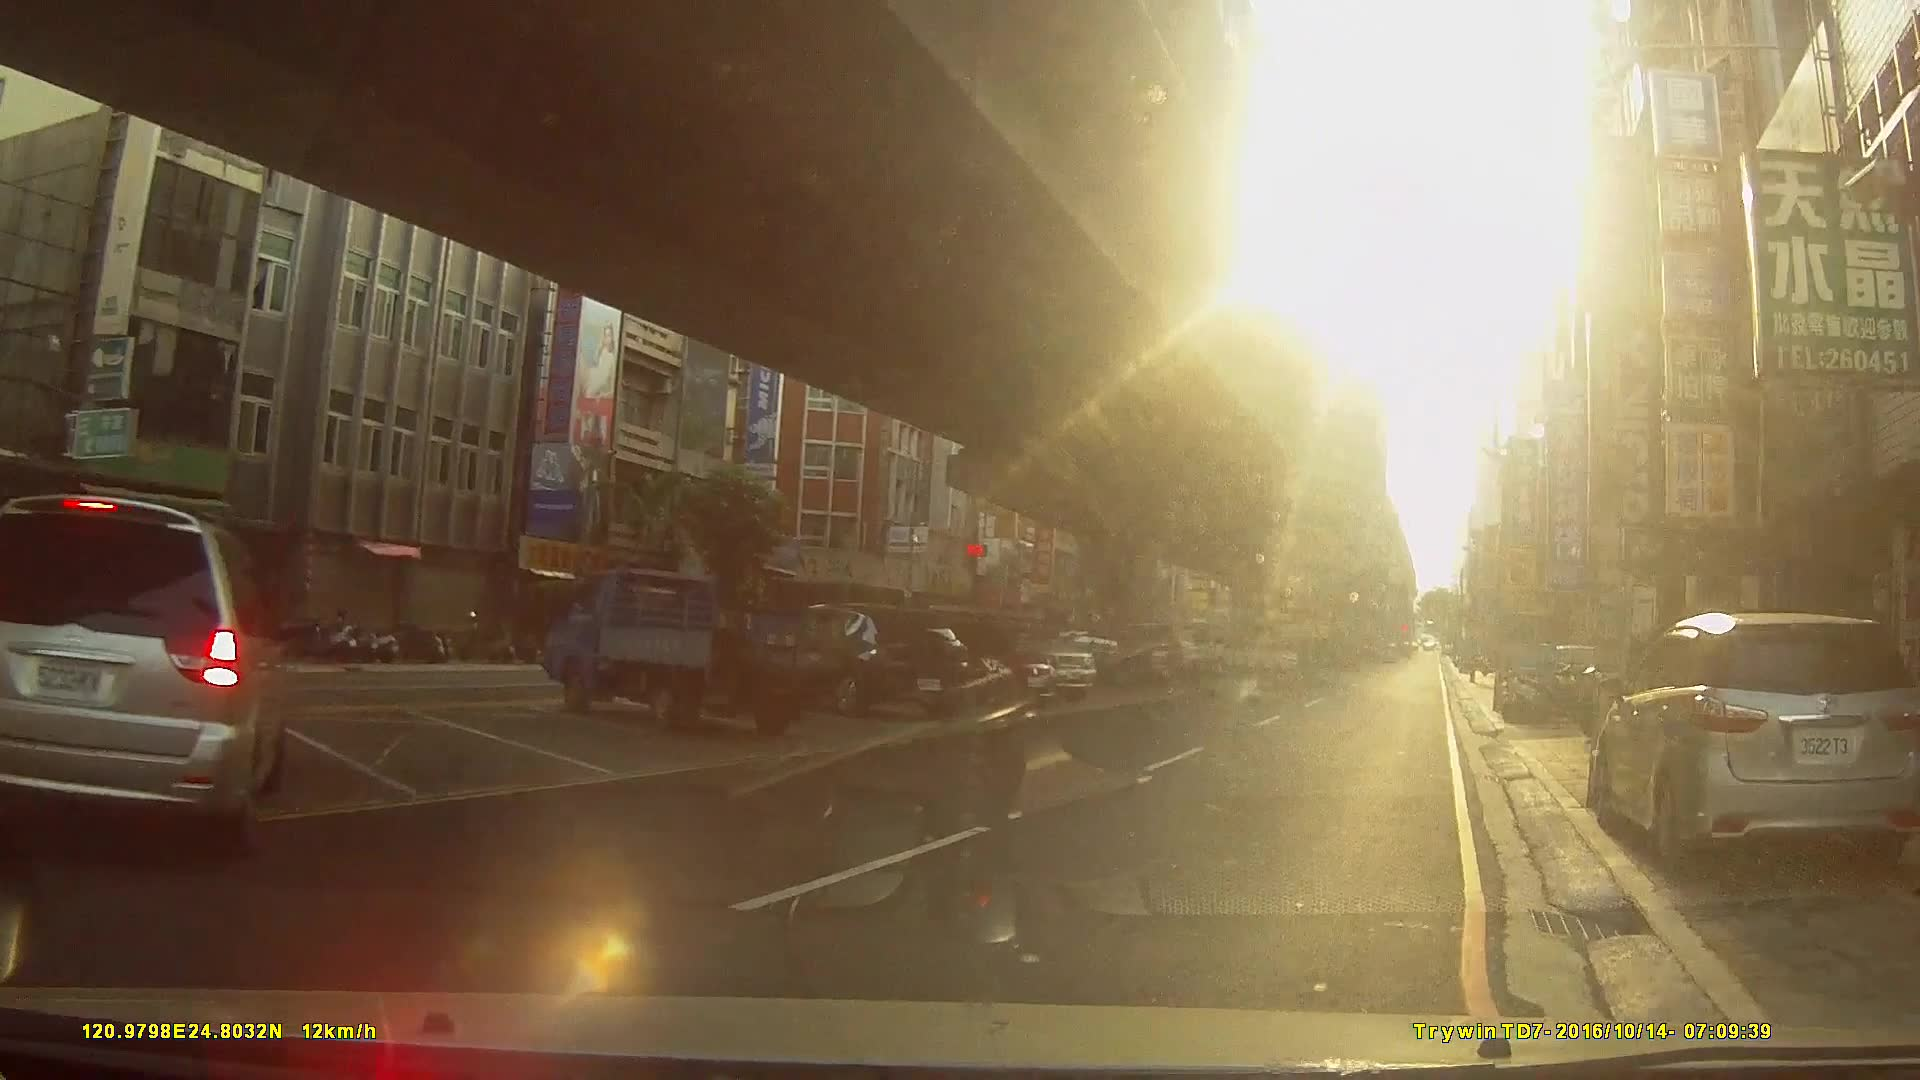vehicle: (0, 488, 291, 862), (1588, 609, 1919, 872), (537, 566, 847, 735), (771, 601, 971, 720), (890, 613, 1059, 705), (1018, 629, 1156, 687)
